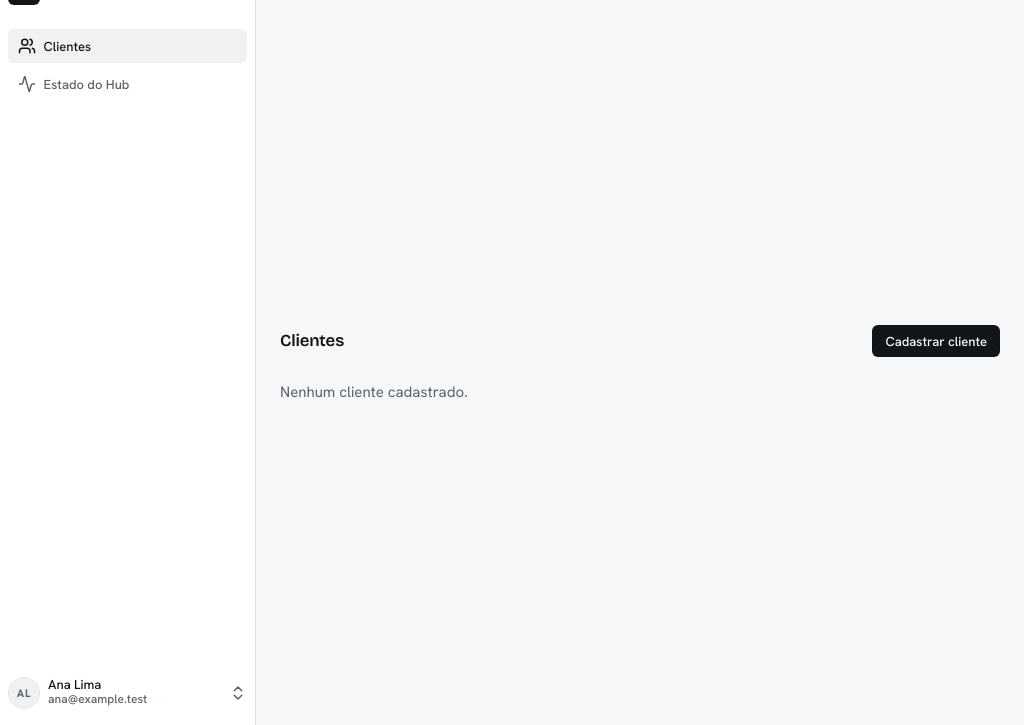
Scenario: lista vazia: "Nenhum cliente cadastrado." e "Cadastrar cliente", que abre o cadastro
(page scrolled)
Check: the text "Nenhum cliente cadastrado." is shown, box 280,382 -> 468,402
Click the link "Cadastrar cliente" at (936, 341), box 872,325 -> 1000,357
(page scrolled)
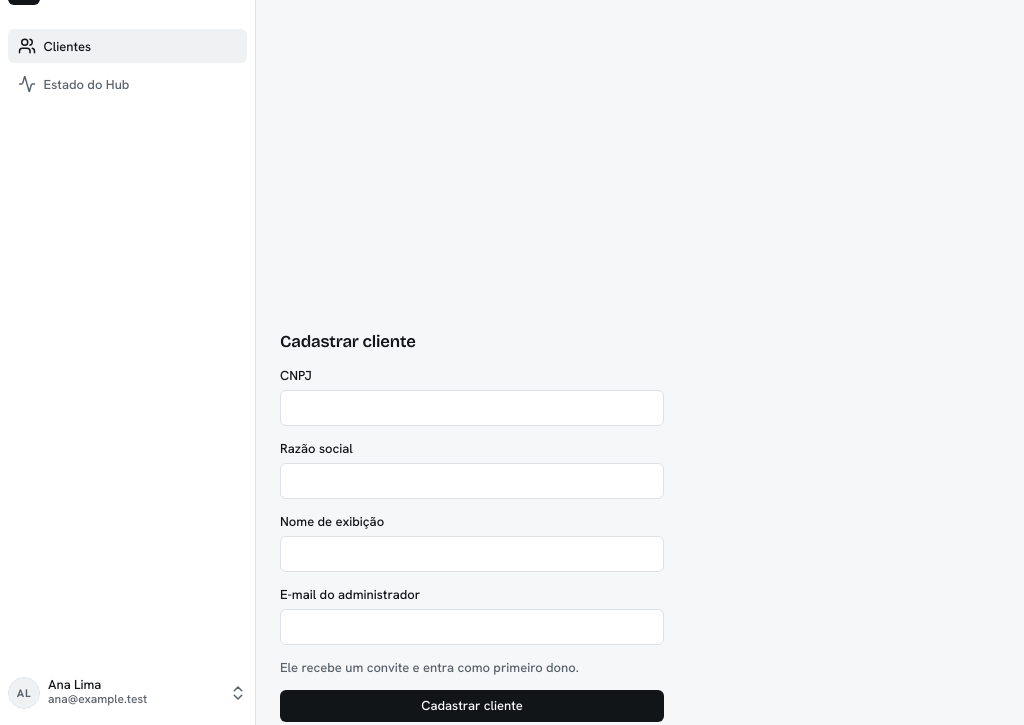
Check: the heading "Cadastrar cliente" is shown, box 280,331 -> 416,352
